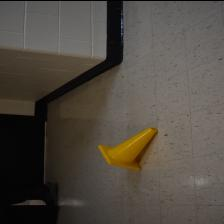cone: (97, 126, 157, 169)
